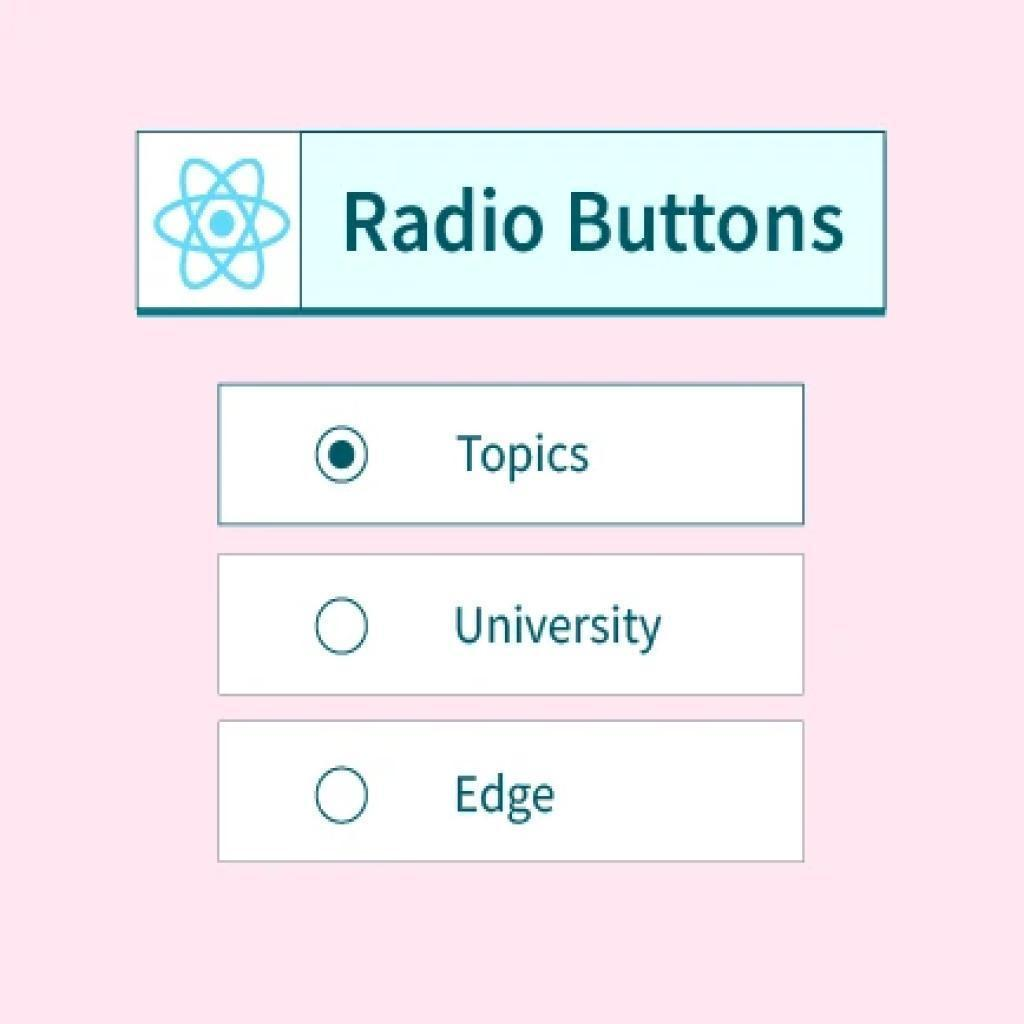label: (455, 599, 662, 667), (458, 428, 596, 481), (453, 764, 560, 822)
radio: (309, 425, 376, 485), (313, 594, 374, 657), (314, 767, 376, 824)
